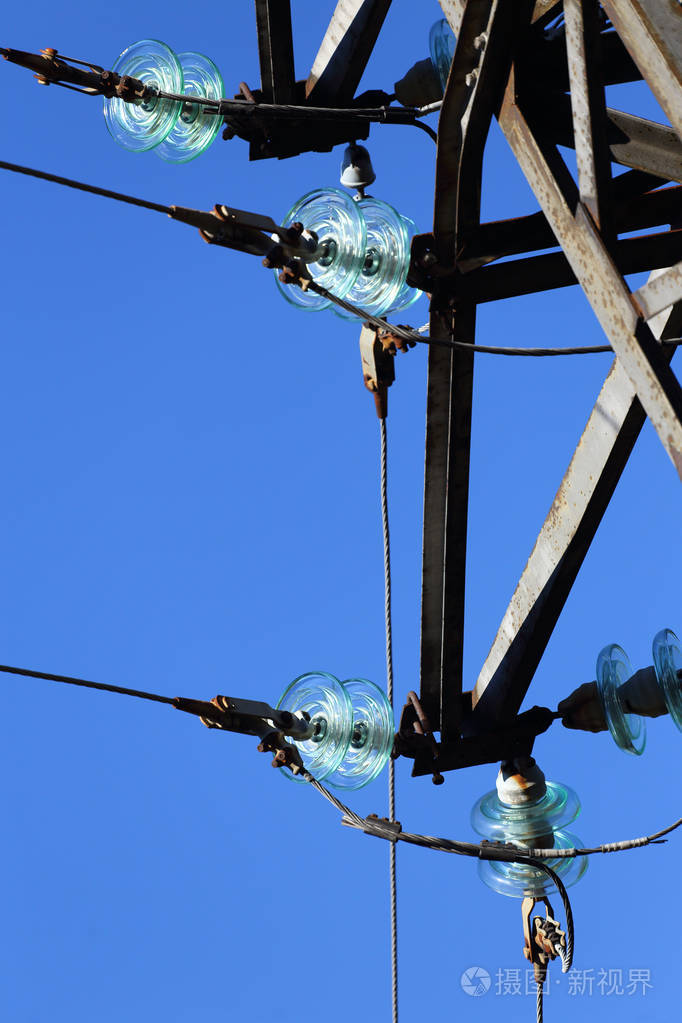insulator: (271, 192, 419, 318), (97, 39, 226, 167), (465, 783, 589, 897), (272, 674, 391, 786), (590, 631, 682, 754)
